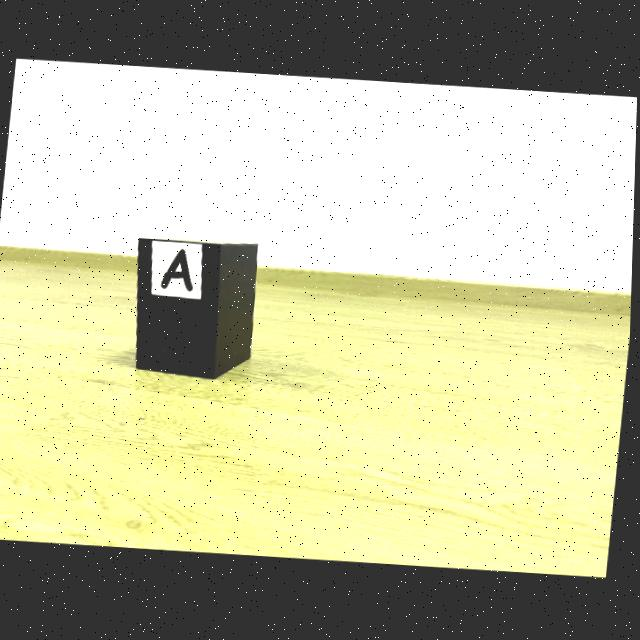A: (162, 249, 194, 291)
